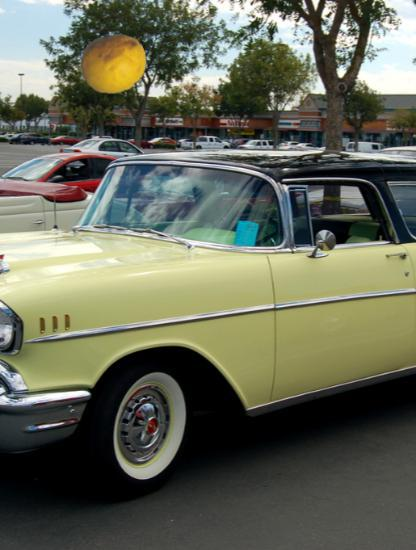Lemon: (80, 30, 147, 97)
